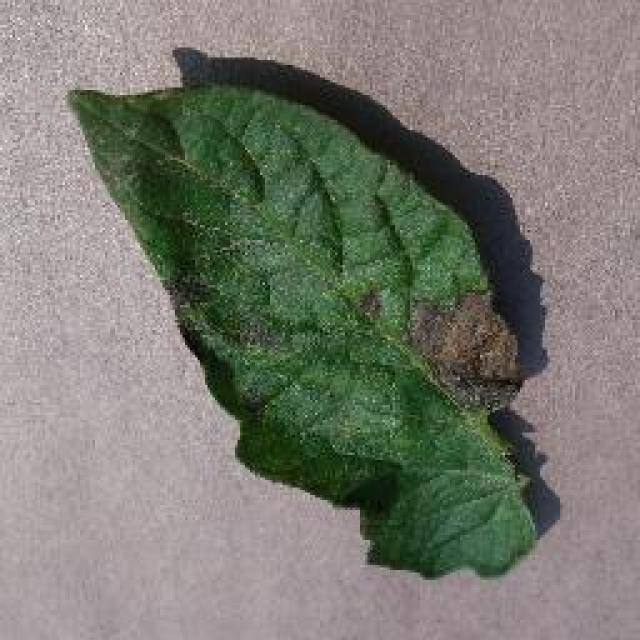Tomato late blight leaf: (69, 81, 538, 584)
